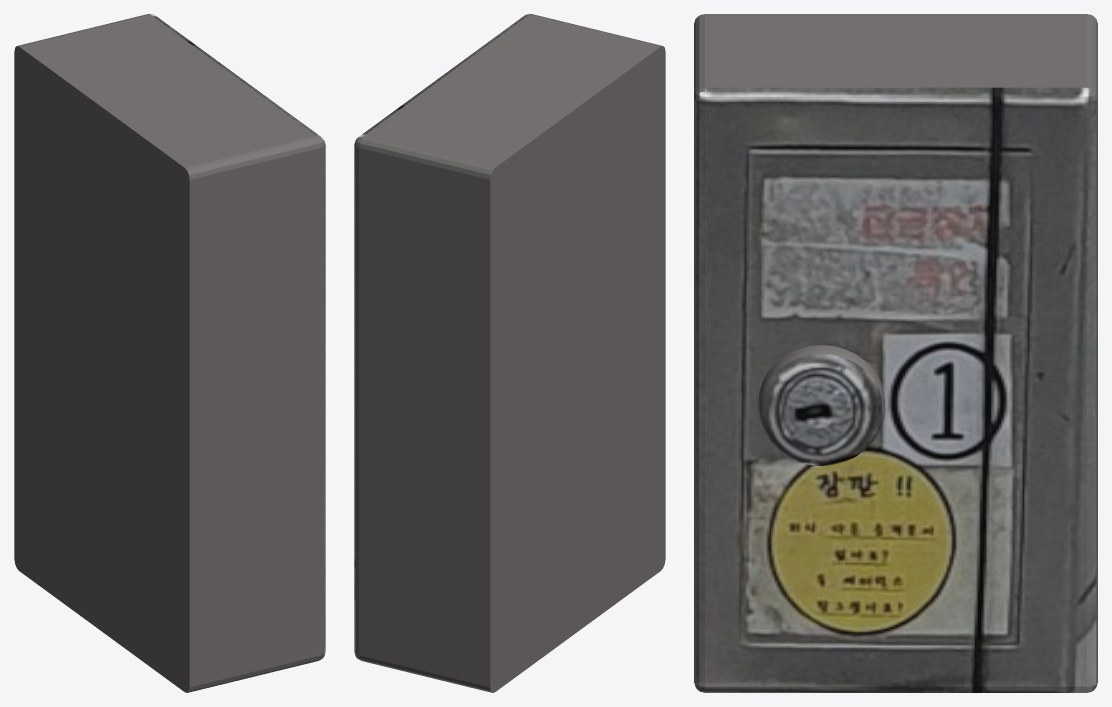
The model's file is 셔터취급기.fbx.
3 views of the same model, side by side, from view 1: azimuth 30°, elevation 25°; view 2: azimuth 150°, elevation 25°; view 3: azimuth 270°, elevation 25° (orthographic). The views are drawn at different scales.
Visible parts, largest first — view 1: 셔터취금기; view 2: 셔터취금기; view 3: 셔터취금기.
Boxes of the visible parts, x1,y1,x2,y2 form: 셔터취금기: [14, 14, 325, 692]; 셔터취금기: [354, 14, 665, 692]; 셔터취금기: [694, 14, 1097, 692].
Size of the model in its own units: 2.84 by 9.07 by 5.49.
Materials: 1 (1 with a texture image).
